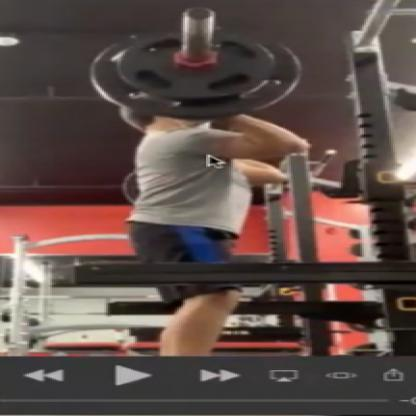Barbell: (184, 7, 220, 24)
